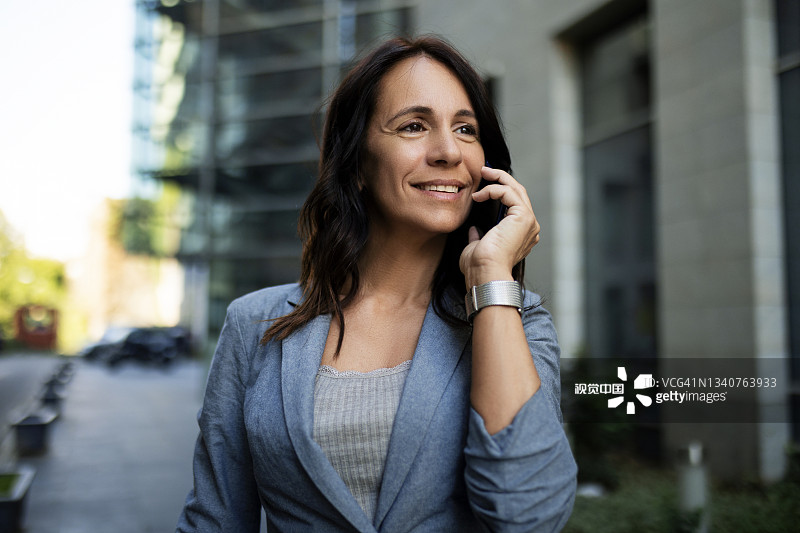calling: (448, 147, 558, 316)
